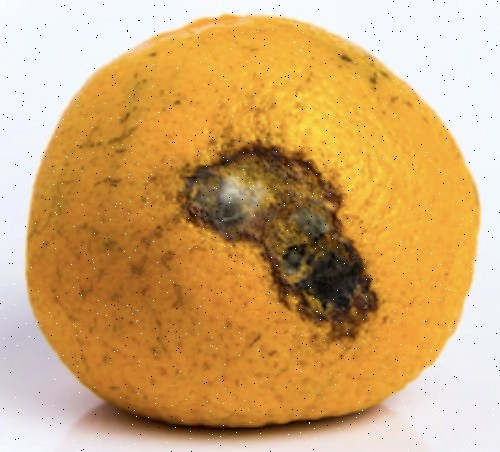rotten_orange: (25, 13, 485, 430)
